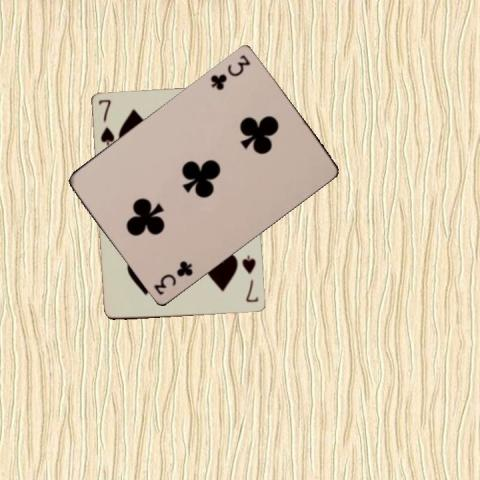3c: (207, 51, 252, 91), (150, 257, 194, 296)
7s: (239, 253, 260, 304), (96, 97, 116, 147)
